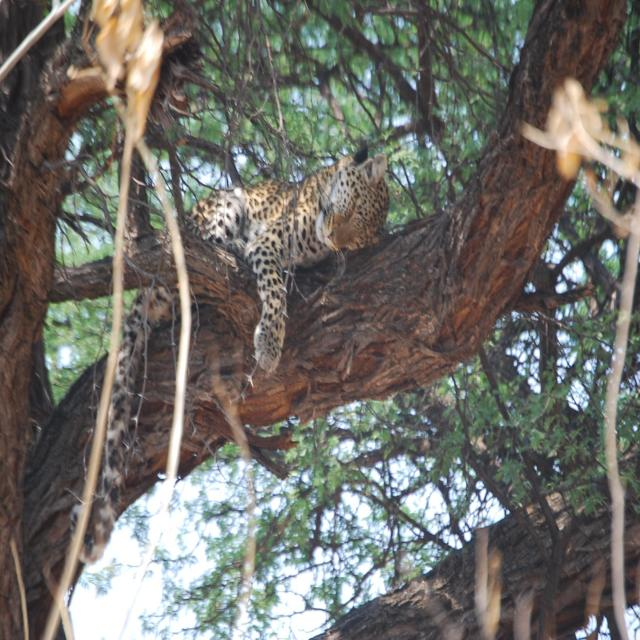Leopard: (36, 139, 419, 590)
